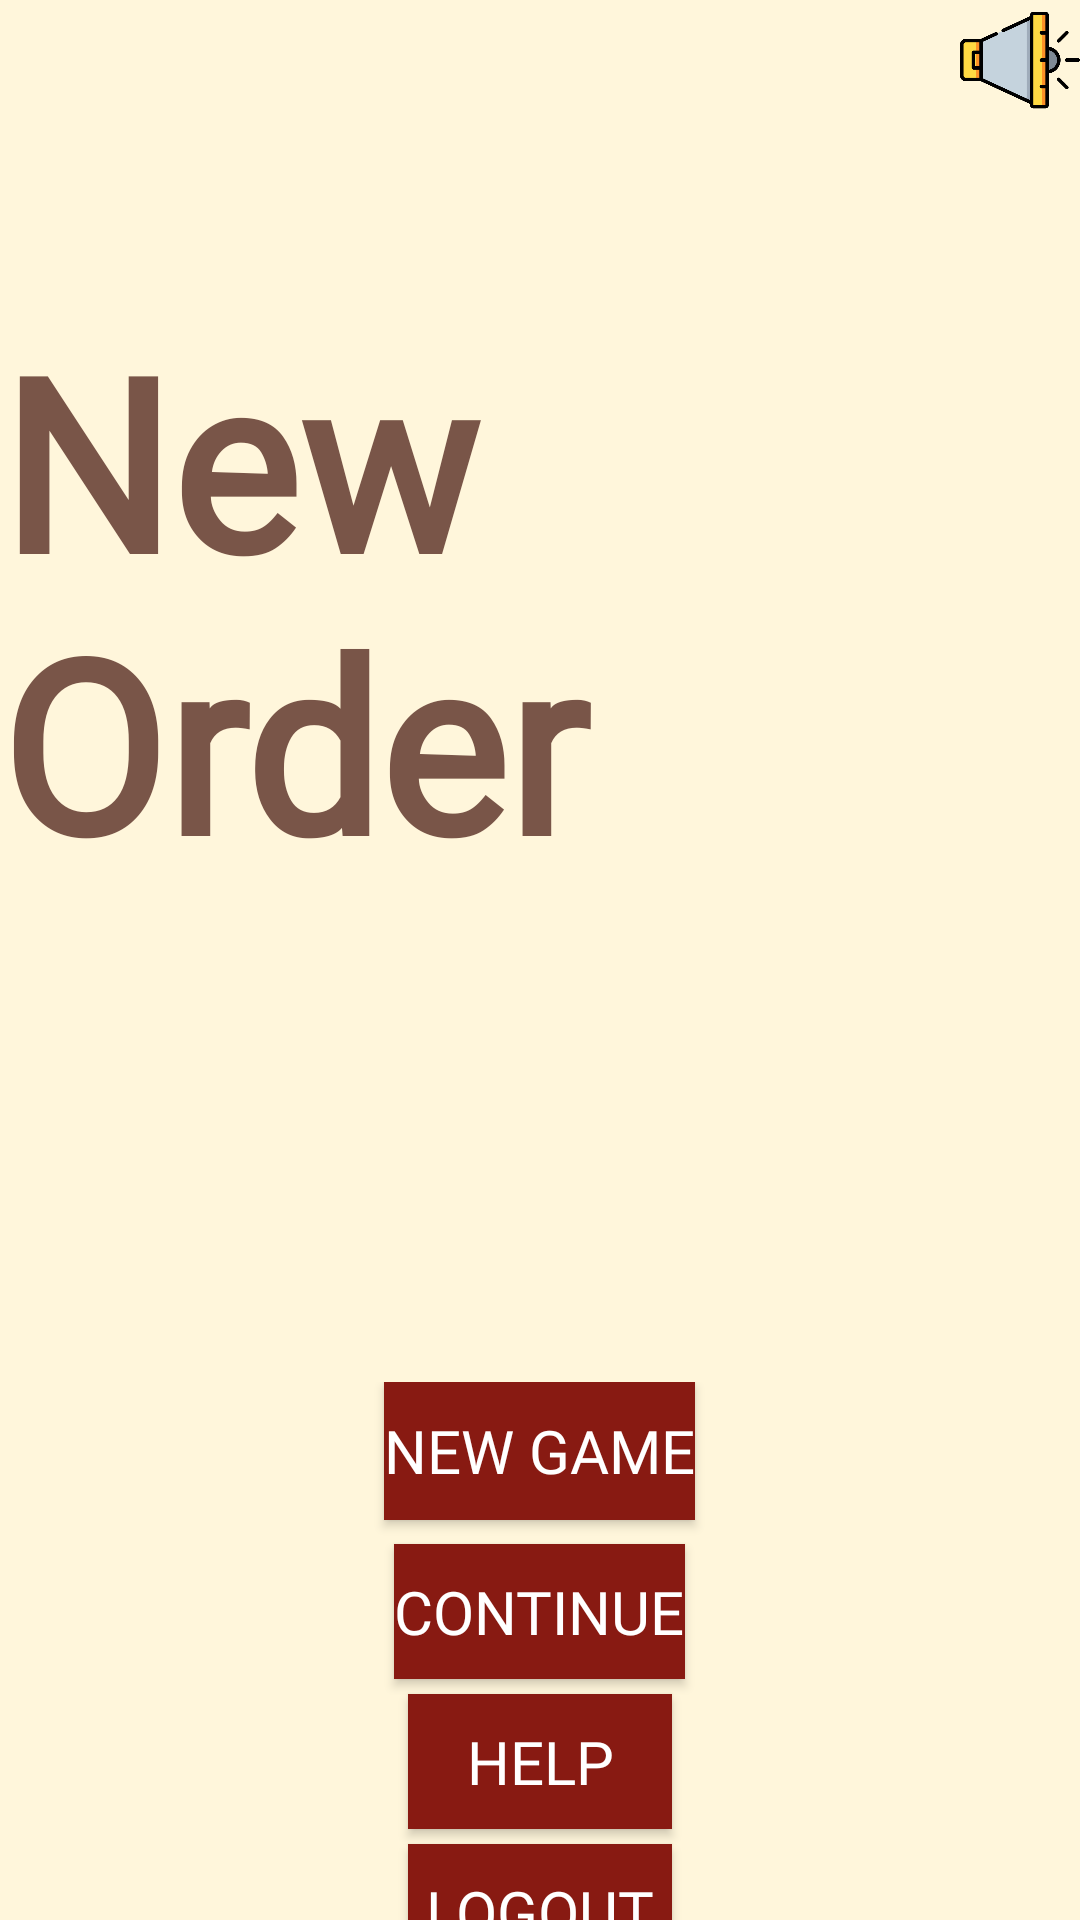

Point at icon controls on the screen. Image size 1080 x 1920, points as [x,y].
Stop Music Play: [1020,60]
